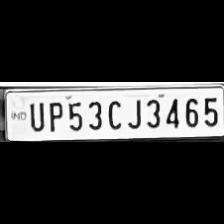3: (84, 97, 104, 130), (144, 95, 160, 129)
4: (162, 94, 180, 128)
5: (64, 98, 84, 132), (201, 93, 219, 127)
6: (181, 94, 199, 128)
C: (104, 96, 124, 130)
J: (124, 95, 142, 129)
P: (45, 98, 63, 132)
U: (26, 99, 44, 131)
